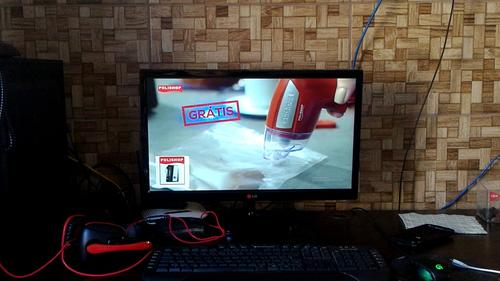Polishop #1: (156, 156, 190, 188)
